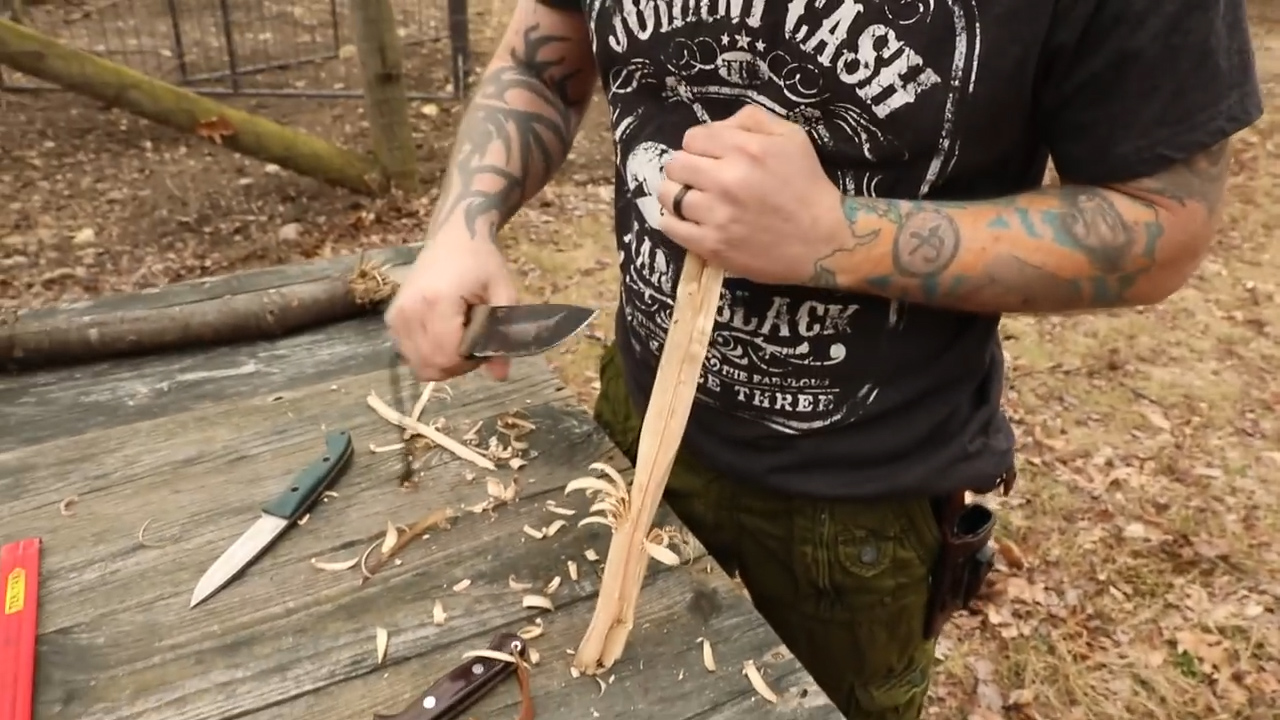knife: (382, 267, 620, 397)
